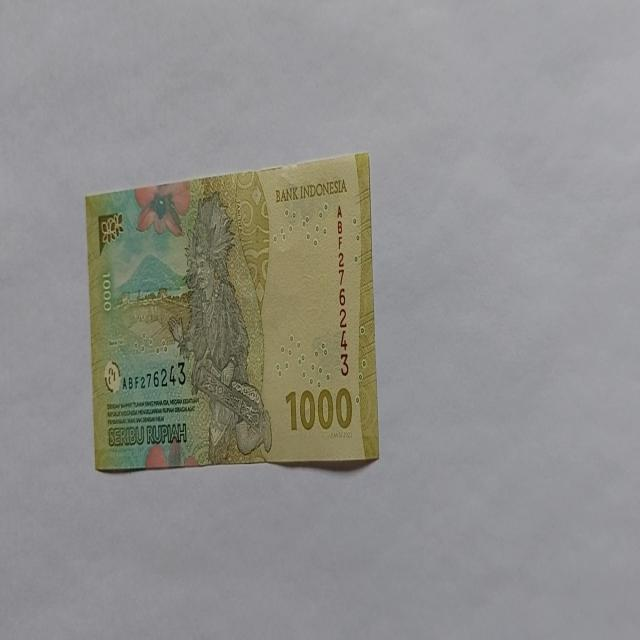seribu rupiah kertas: (84, 150, 380, 472)
